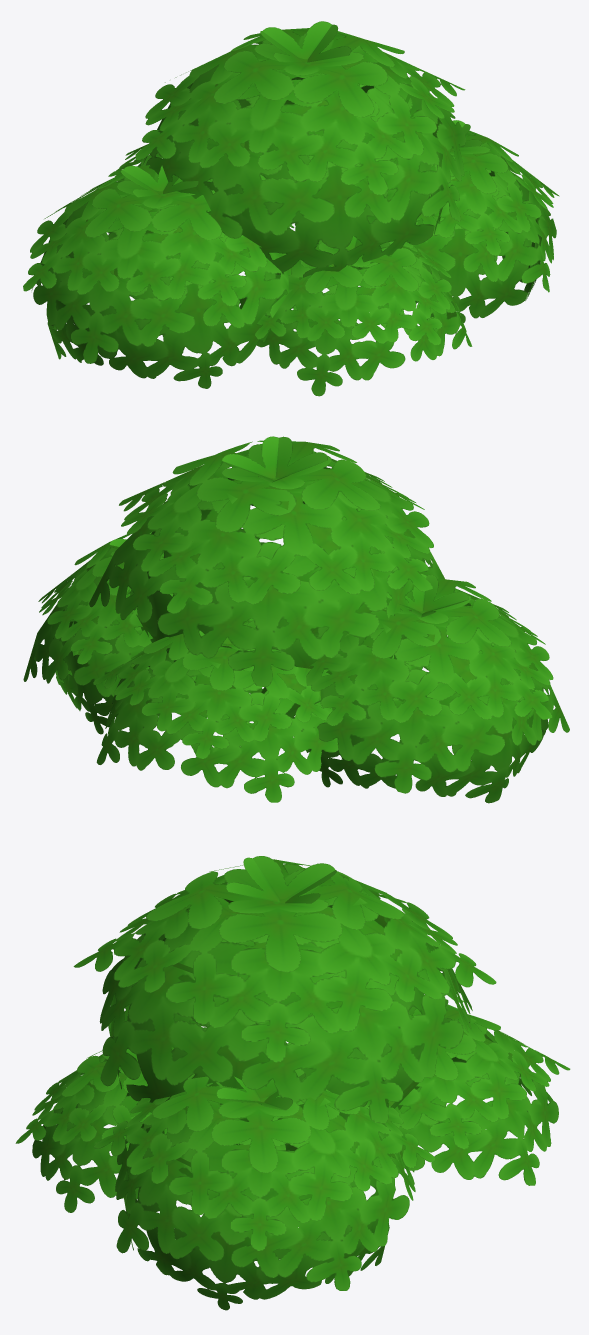
Rendered from Foliage_RoundNatural_Medium.fbx.
3 views of the same model, one above another, from view 1: azimuth 30°, elevation 25°; view 2: azimuth 150°, elevation 25°; view 3: azimuth 270°, elevation 25° (orthographic). The views are drawn at different scales.
Parts seen in each view (by area): view 1: Foliage_RoundNatural_Medium; view 2: Foliage_RoundNatural_Medium; view 3: Foliage_RoundNatural_Medium.
Boxes of the visible parts, box(x1,y1,x2,y2) form: Foliage_RoundNatural_Medium: box(23, 21, 559, 396); Foliage_RoundNatural_Medium: box(23, 436, 569, 803); Foliage_RoundNatural_Medium: box(15, 856, 570, 1310).
Size of the model in its own units: 1409 by 941 by 1744.
Materials: 1 (1 with a texture image).
